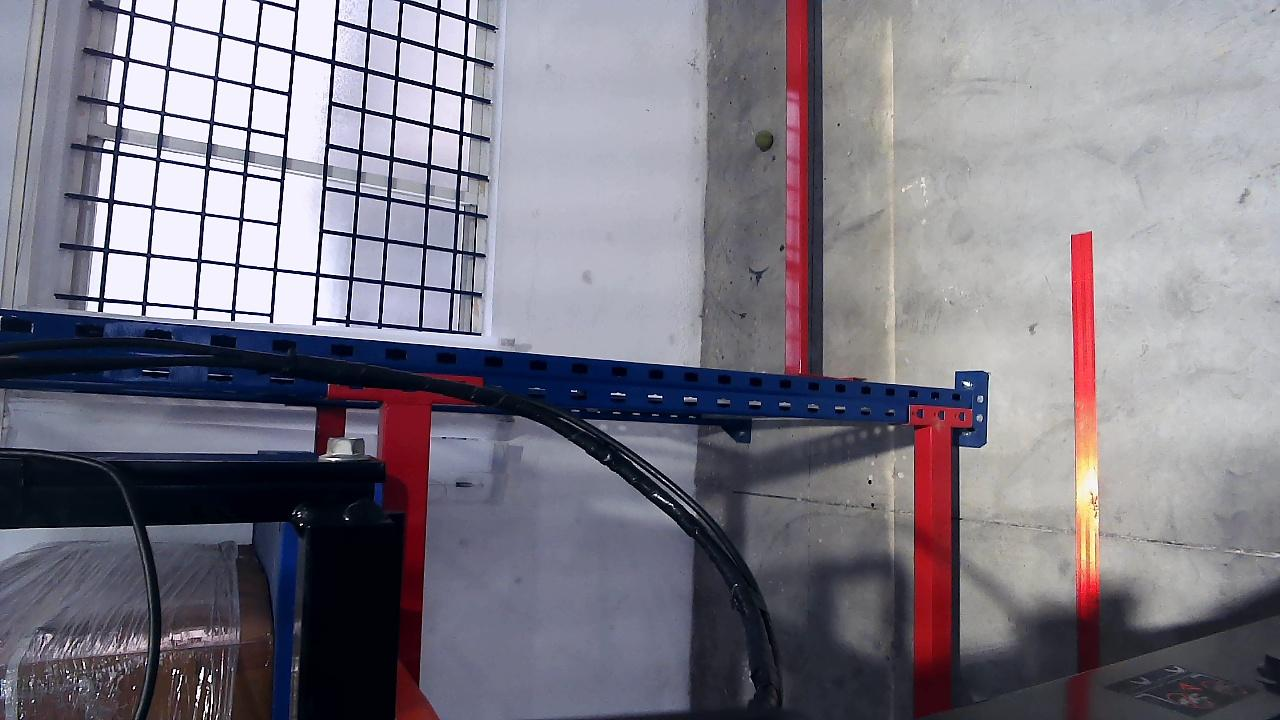h_rack: (394, 402, 432, 719), (782, 0, 812, 371), (910, 425, 948, 715)
red_line: (1073, 231, 1098, 671)
